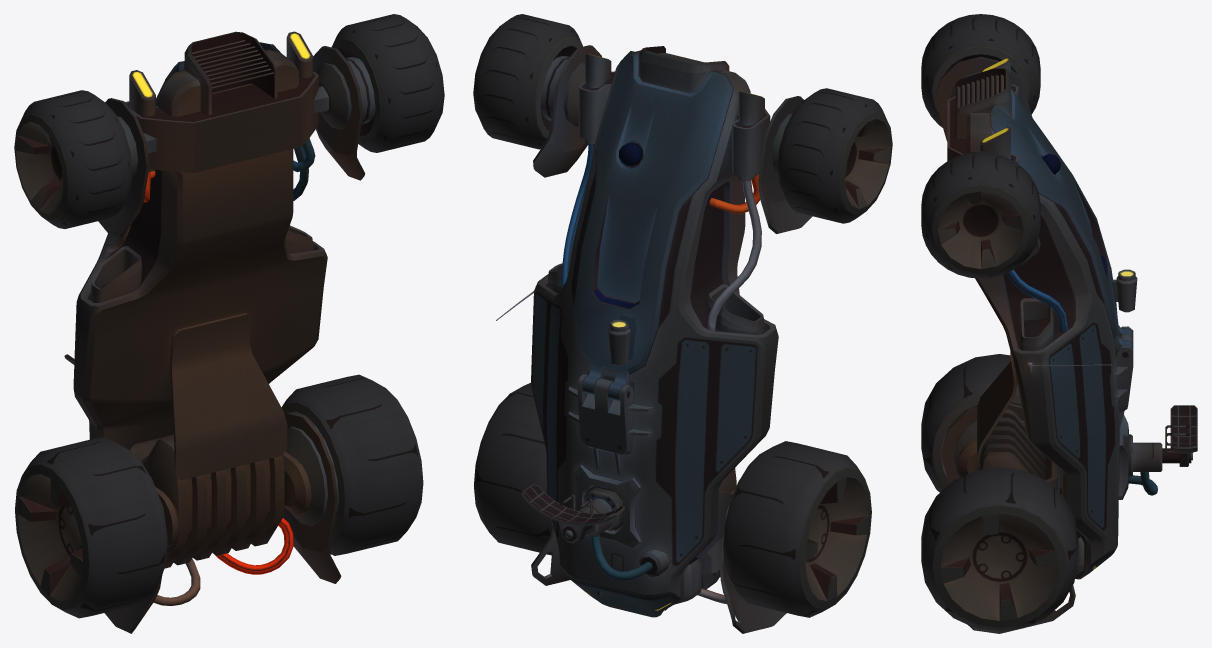
The model's file is vehicule3fixed.fbx.
The picture shows the model from 3 angles, left to right: view 1: azimuth 30°, elevation 25°; view 2: azimuth 150°, elevation 25°; view 3: azimuth 270°, elevation 25°; orthographic projection. The views are drawn at different scales.
Parts seen in each view (by area): view 1: Vehicle_3, Wheel_R.R, Wheel_R.L, Wheel_F.R, Wheel_F.L, Suspension_F.L, Suspension_R.L, Suspension_F.R, Suspension_R.R; view 2: Vehicle_3, Wheel_R.R, Wheel_F.R, Wheel_F.L, Wheel_R.L, Suspension_F.L, Suspension_F.R, Radar_Dish, Radar_Base, Suspension_R.R, Suspension_R.L; view 3: Vehicle_3, Wheel_R.L, Wheel_F.L, Wheel_F.R, Wheel_R.R, Radar_Dish, Suspension_F.R, Suspension_R.R, Radar_Base, Suspension_R.L.
Part boxes in pixels (x1,y1,x2,y2): Vehicle_3: [73, 31, 327, 605]; Wheel_R.R: [15, 437, 167, 618]; Wheel_R.L: [281, 374, 423, 555]; Wheel_F.R: [14, 90, 132, 228]; Wheel_F.L: [331, 14, 444, 152]; Suspension_F.L: [313, 46, 375, 180]; Suspension_R.L: [283, 412, 341, 583]; Suspension_F.R: [98, 98, 156, 238]; Suspension_R.R: [104, 477, 167, 633]; Vehicle_3: [531, 46, 778, 617]; Wheel_R.R: [723, 441, 871, 617]; Wheel_F.R: [777, 88, 892, 223]; Wheel_F.L: [473, 14, 582, 149]; Wheel_R.L: [474, 382, 553, 555]; Suspension_F.L: [533, 45, 601, 177]; Suspension_F.R: [758, 96, 812, 233]; Radar_Dish: [521, 484, 624, 543]; Radar_Base: [578, 487, 652, 580]; Suspension_R.R: [719, 480, 786, 633]; Suspension_R.L: [531, 526, 569, 585]; Vehicle_3: [947, 57, 1137, 579]; Wheel_R.L: [921, 467, 1078, 631]; Wheel_F.L: [921, 152, 1040, 278]; Wheel_F.R: [921, 14, 1040, 127]; Wheel_R.R: [921, 354, 1021, 492]; Radar_Dish: [1162, 405, 1197, 466]; Suspension_F.R: [934, 56, 1032, 141]; Suspension_R.R: [941, 404, 1061, 492]; Radar_Base: [1128, 434, 1162, 495]; Suspension_R.L: [968, 585, 1075, 633].
Bounding box in the file's own units: 249 × 353 × 174.
